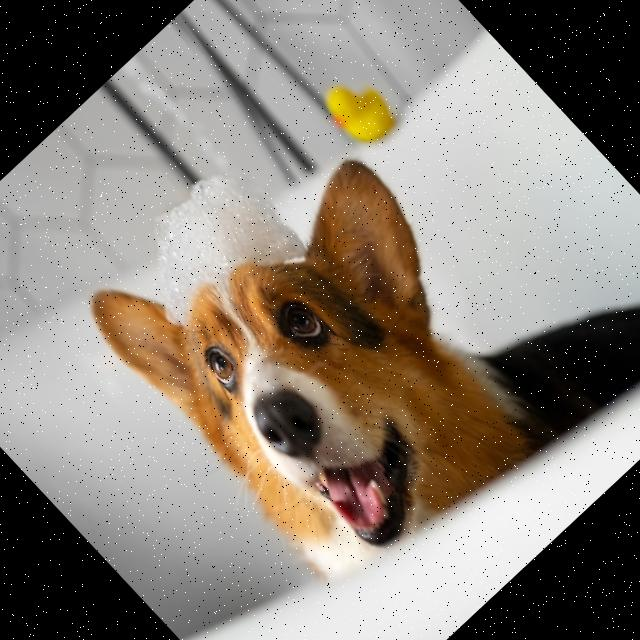Dog: (77, 98, 594, 620)
